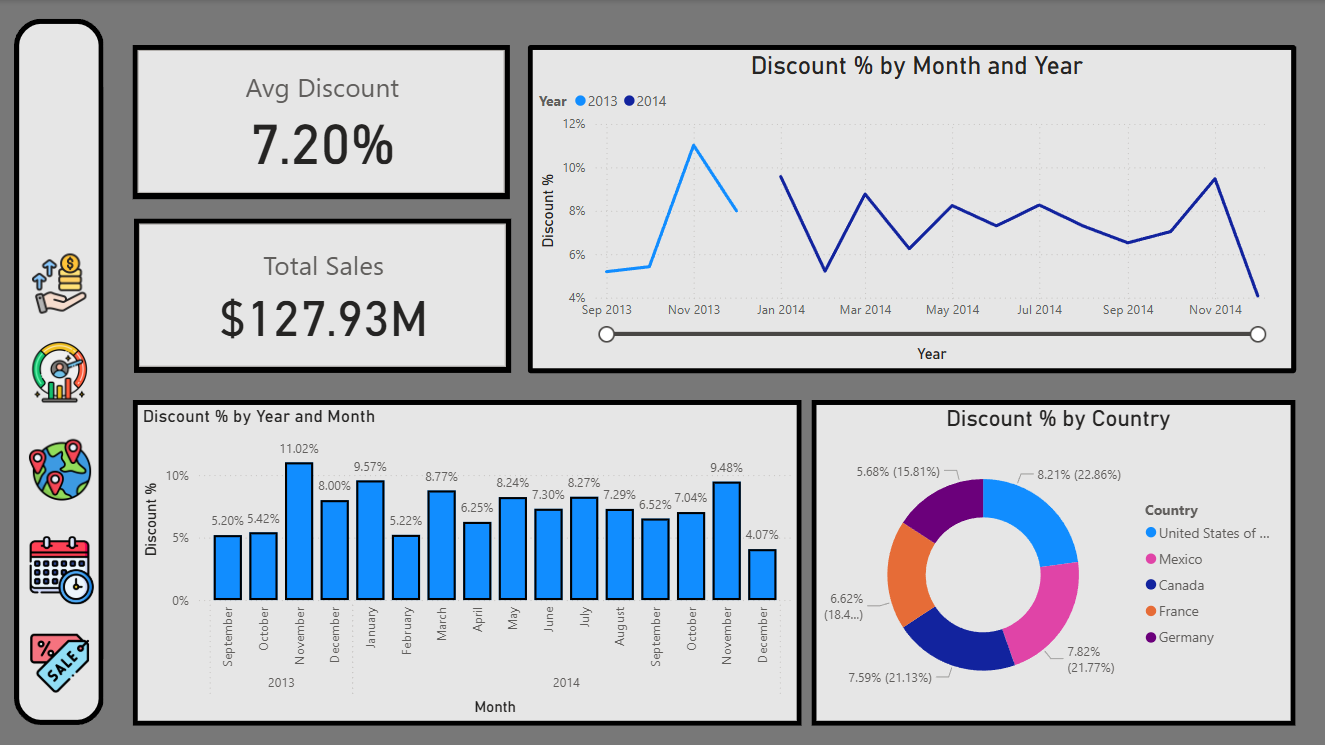

The dashboard page shown, as its layout file describes it:
{"tool":"powerbi","page":{"name":"Discount Analysis","canvas":[1280,720],"ordinal":4},"visuals":[{"type":"shape","box":[15,18.3,86.7,681.7],"z":0},{"type":"image","box":[21.7,418.3,75,70],"z":1000},{"type":"image","box":[23.3,325,71.7,70],"z":2000},{"type":"image","box":[21.7,238.3,73.3,70],"z":3000},{"type":"image","box":[23.3,513.3,75,75],"z":4000},{"type":"image","box":[20,606.7,76.7,66.7],"z":5000},{"type":"donutChart","fields":{"Category":["financials.Country"],"Y":["Measure Table.Discount %"]},"box":[784.3,385.7,467.1,314.3],"z":6000},{"type":"clusteredColumnChart","fields":{"Y":["Measure Table.Discount %"],"Category":["financials.Date.Variation.Date Hierarchy.Year","financials.Date.Variation.Date Hierarchy.Month"]},"box":[128.6,385.7,645.7,314.3],"z":7000},{"type":"cardVisual","fields":{"Data":["Measure Table.Total Sales"]},"box":[130,211.4,364.3,148.6],"z":7002},{"type":"cardVisual","fields":{"Data":["Measure Table.Discount %"]},"box":[128.6,42.9,364.3,148.6],"z":7003},{"type":"lineChart","title":"Discount % by Month and Year","fields":{"Category":["financials.Date.Variation.Date Hierarchy.Year","financials.Date.Variation.Date Hierarchy.Month"],"Series":["financials.Year"],"Y":["Measure Table.Discount %"]},"box":[510,42.9,741.4,317.1],"z":7004}]}

Visuals, with their boxes in screenshot pixels (x1, y1, x2, y2), scaled from the page's 1280x720 canvas onto the 1325x745 screenshot:
shape: bbox=[16, 19, 105, 724]
image: bbox=[22, 433, 100, 505]
image: bbox=[24, 336, 98, 409]
image: bbox=[22, 247, 98, 319]
image: bbox=[24, 531, 102, 609]
image: bbox=[21, 628, 100, 697]
donutChart - financials.Country x Measure Table.Discount %: bbox=[812, 399, 1295, 724]
clusteredColumnChart - Measure Table.Discount % x financials.Date.Variation.Date Hierarchy.Year: bbox=[133, 399, 802, 724]
cardVisual - Measure Table.Total Sales: bbox=[135, 219, 512, 373]
cardVisual - Measure Table.Discount %: bbox=[133, 44, 510, 198]
"Discount % by Month and Year" lineChart: bbox=[528, 44, 1295, 373]
